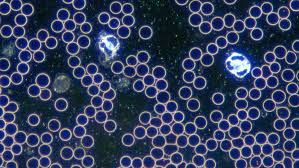Malaria: (271, 45, 289, 61), (186, 12, 203, 28), (65, 54, 84, 68), (54, 96, 70, 112), (211, 91, 227, 107), (212, 35, 230, 49), (193, 75, 208, 91), (138, 24, 153, 39), (133, 124, 148, 139), (194, 114, 209, 129), (85, 62, 101, 76), (108, 1, 123, 15), (262, 98, 277, 112), (224, 11, 236, 28), (111, 61, 125, 75), (36, 28, 50, 42), (60, 147, 74, 160), (156, 91, 170, 104), (10, 72, 24, 85), (266, 12, 279, 26), (71, 67, 86, 79), (153, 64, 165, 79), (32, 50, 45, 63), (84, 105, 96, 118), (104, 120, 116, 133), (21, 4, 34, 16), (15, 130, 27, 143), (195, 144, 207, 156), (42, 131, 53, 143), (244, 134, 255, 146), (2, 113, 15, 123), (160, 124, 171, 135), (262, 143, 272, 155), (127, 55, 137, 66), (88, 85, 99, 95)
